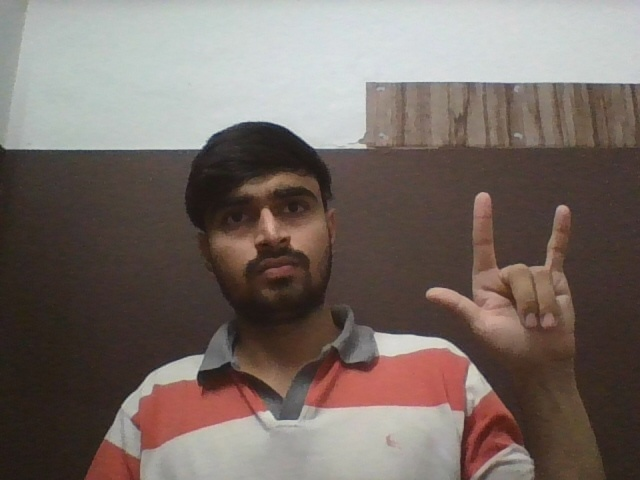I Love You: (426, 191, 577, 368)
